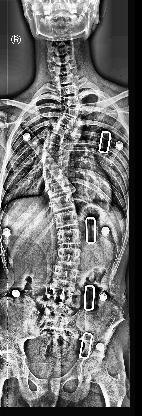Vertebrae: (46, 267, 84, 285), (49, 248, 87, 264), (52, 229, 88, 245), (45, 196, 81, 210), (44, 287, 80, 301), (50, 212, 84, 226), (34, 168, 66, 182), (38, 181, 74, 193), (34, 144, 64, 154), (34, 156, 64, 166), (58, 95, 84, 105), (52, 116, 78, 126), (46, 125, 72, 135), (38, 135, 66, 143), (56, 107, 80, 115), (56, 86, 78, 94)
